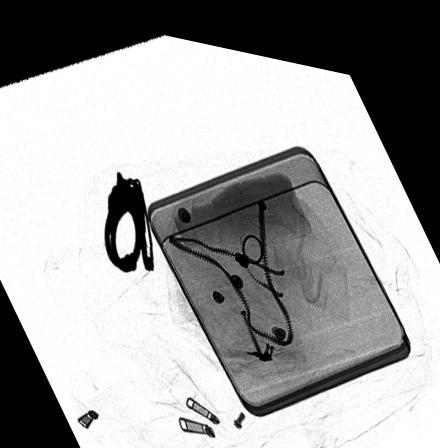HandCuffs: (104, 166, 155, 269)
